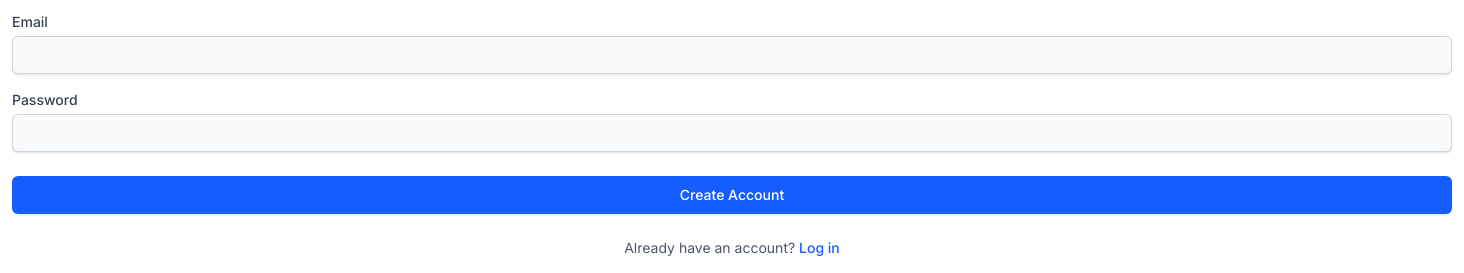
Test: SignUpForm › shows pending state when submitting
Type "test@example.com" into the field labelled "Email" at (732, 55), box [12,36,1452,74]
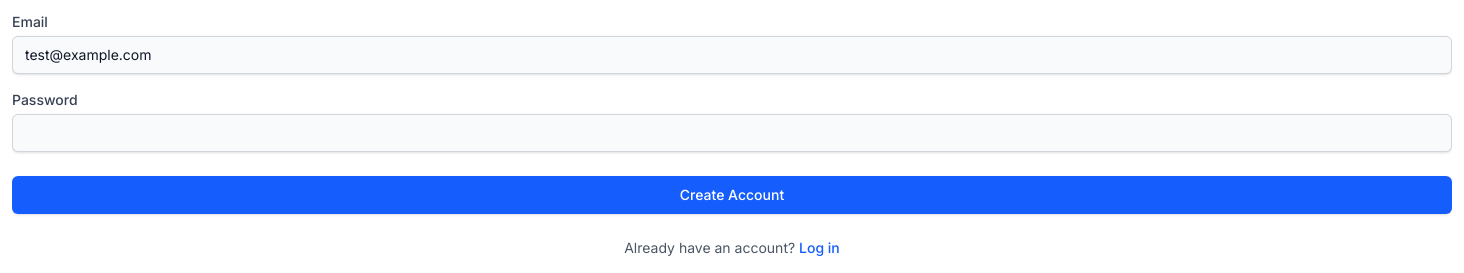
Type "password123" into the password field labelled "Password" at (732, 133), box [12,114,1452,152]
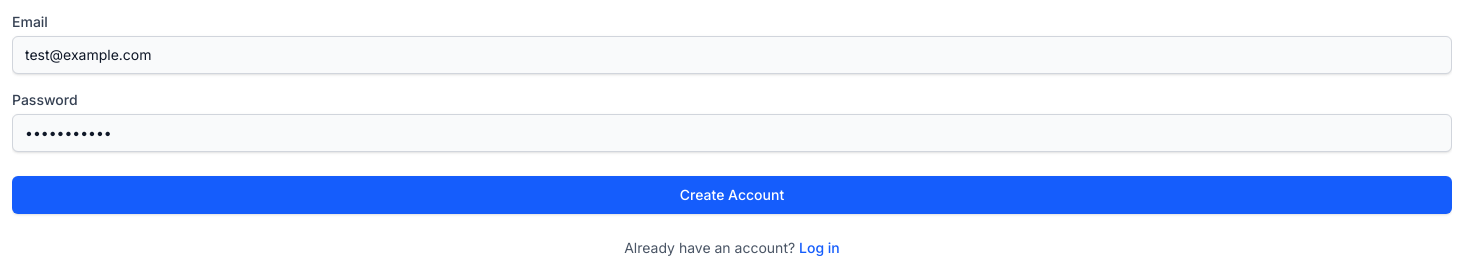
Click the button "Create Account" at (732, 195), box [12,176,1452,214]
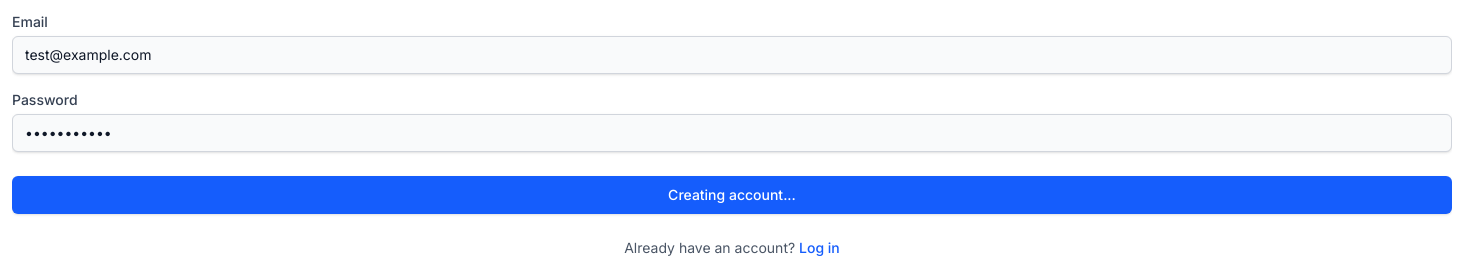
Now the button "Creating account..." is shown, box [12,176,1452,214]
